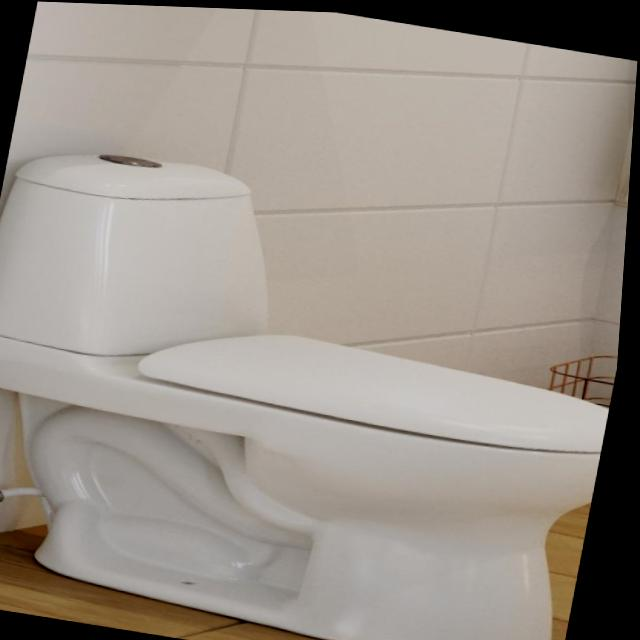toilet: (0, 120, 634, 640)
